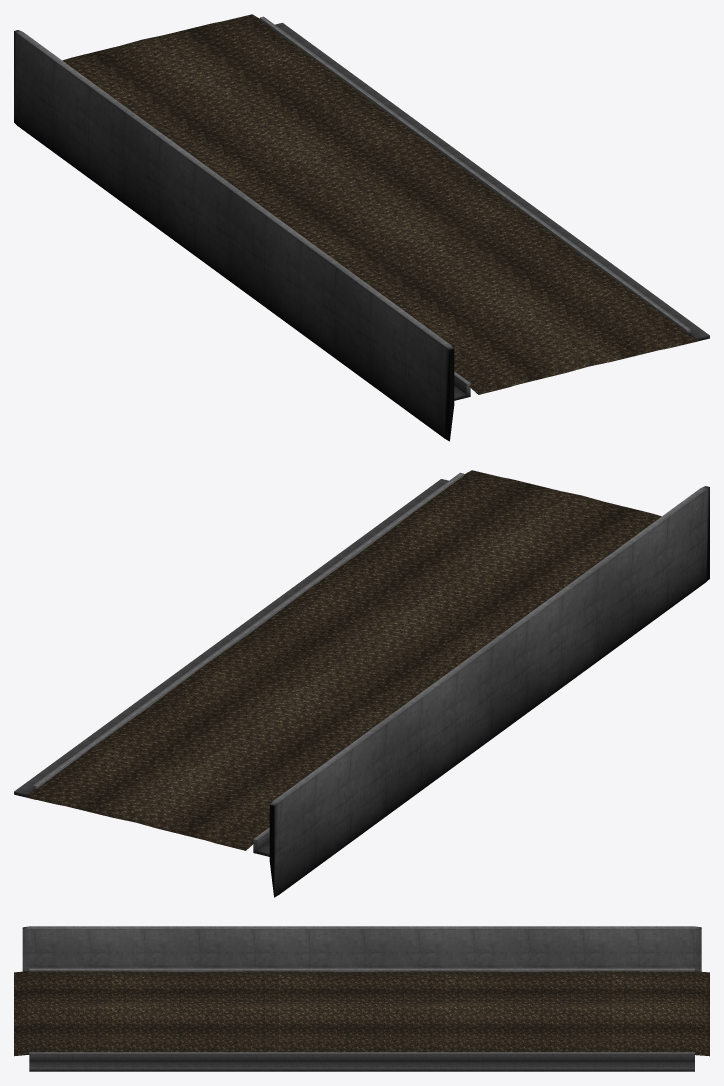
Rendered from AMB_JARI_KIN_R_WALL.glb.
3 renders of one model, top to bottom at view 1: azimuth 30°, elevation 25°; view 2: azimuth 150°, elevation 25°; view 3: azimuth 270°, elevation 25°, orthographic. The views are drawn at different scales.
Visible parts, largest first — view 1: Mesh1; view 2: Mesh1; view 3: Mesh1.
Part boxes in pixels (<box>): Mesh1: <box>14,14,709,441</box>; Mesh1: <box>14,470,709,897</box>; Mesh1: <box>14,926,709,1071</box>.
Size of the model in its own units: 35.82 by 11.93 by 105.
Materials: 2 (2 with a texture image).
